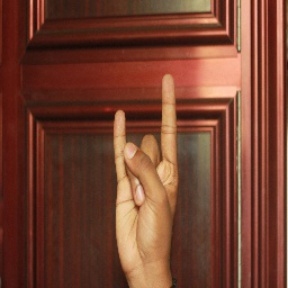V: (108, 70, 185, 259)
